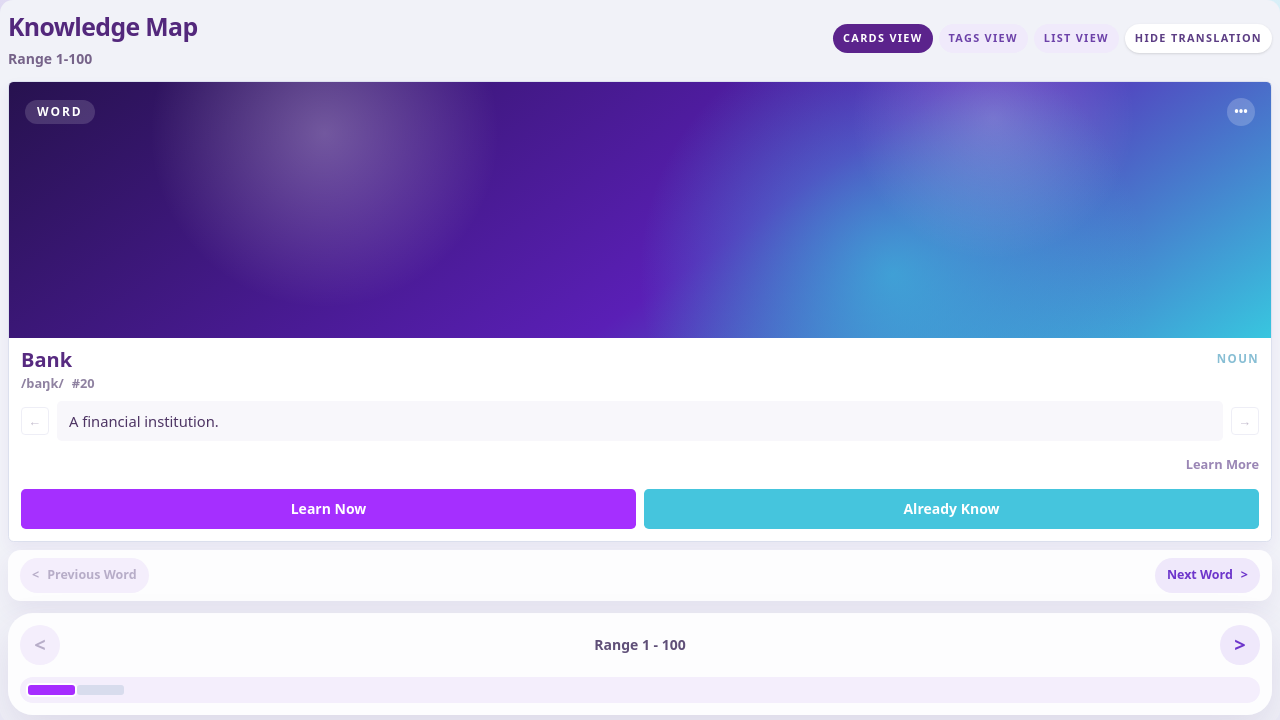
KnowledgeMapRangePage › keeps the selected entry and definition in sync when browsing across entries
Check: the heading "Bank" is shown, box [21, 346, 72, 373]
Check: the text "A financial institution." is shown, box [69, 411, 219, 431]
Click the button with aria-label "next entry" at (1207, 576), box [1155, 558, 1260, 593]
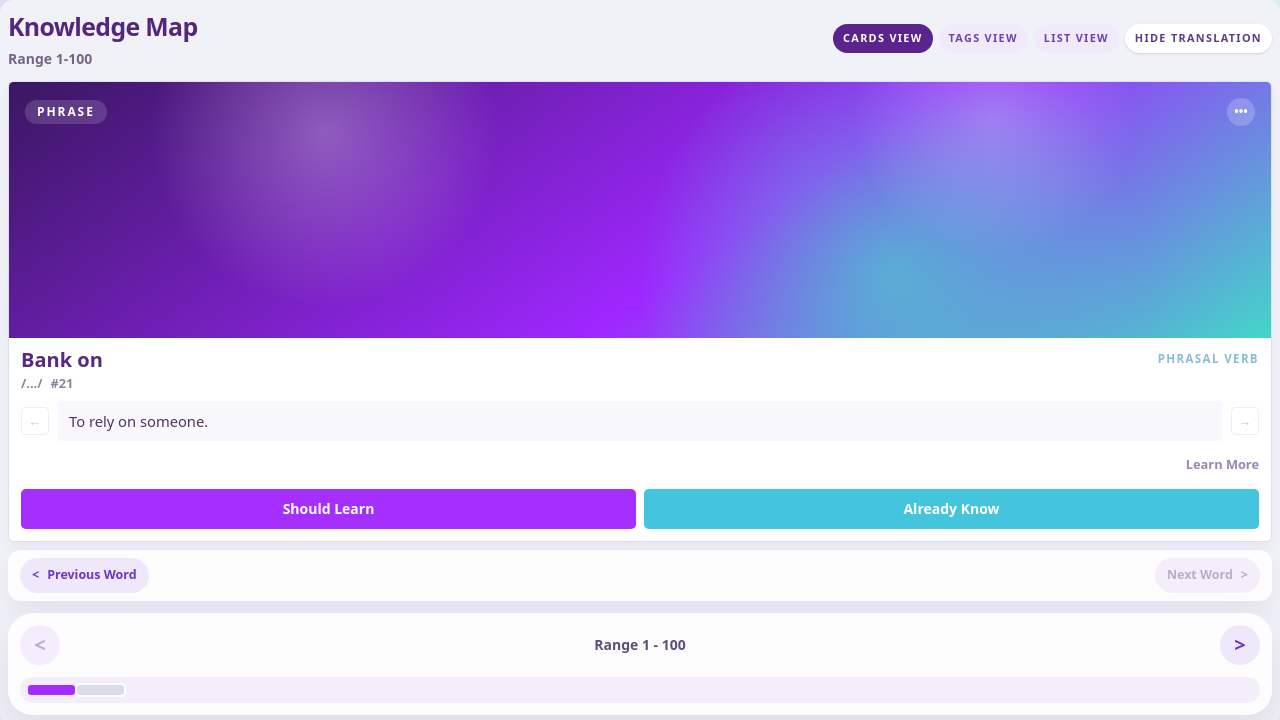
Check: the heading "Bank on" is shown, box [21, 350, 103, 370]
Check: the text "To rely on someone." is shown, box [69, 411, 208, 431]
Click the button with aria-label "previous entry" at (84, 576), box [20, 558, 149, 593]
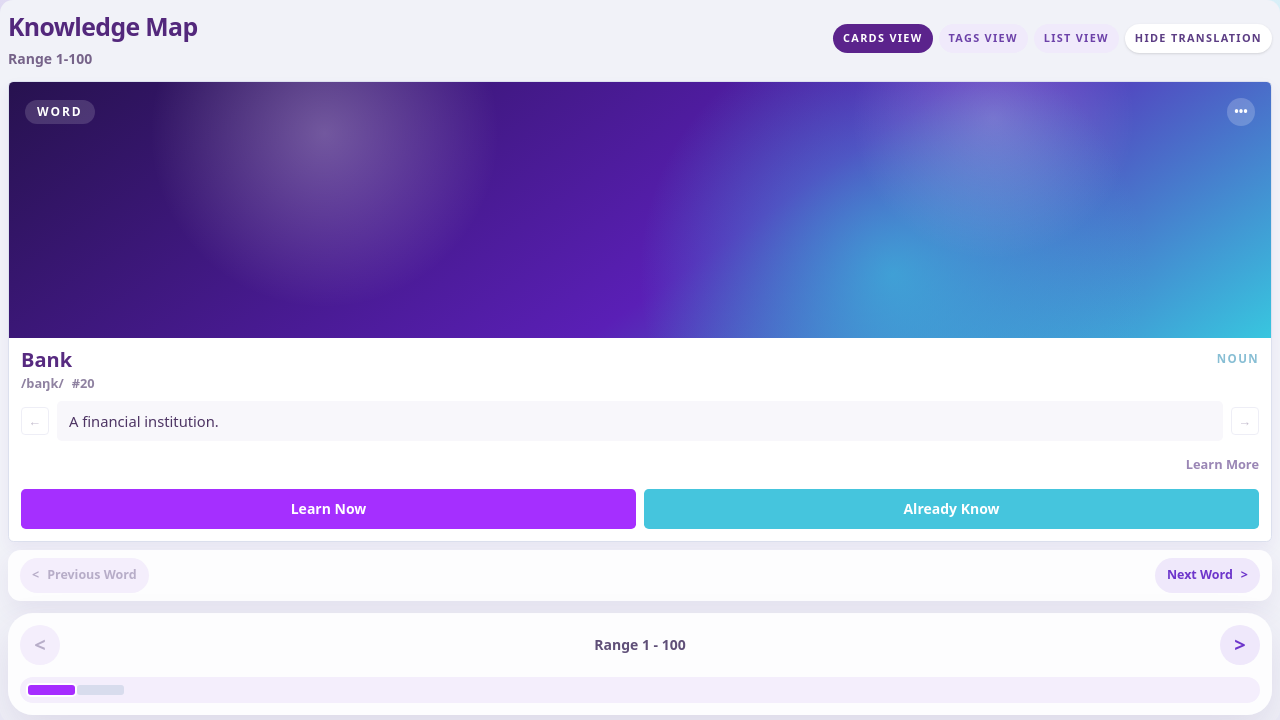
Check: the heading "Bank" is shown, box [21, 346, 72, 373]
Check: the text "A financial institution." is shown, box [69, 411, 219, 431]
